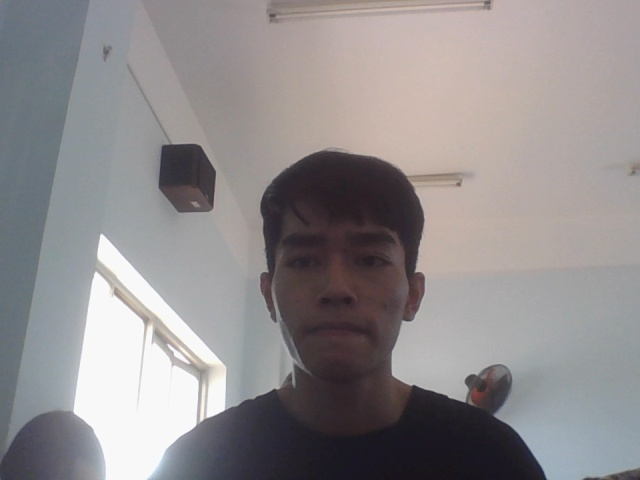real: (249, 132, 433, 393)
